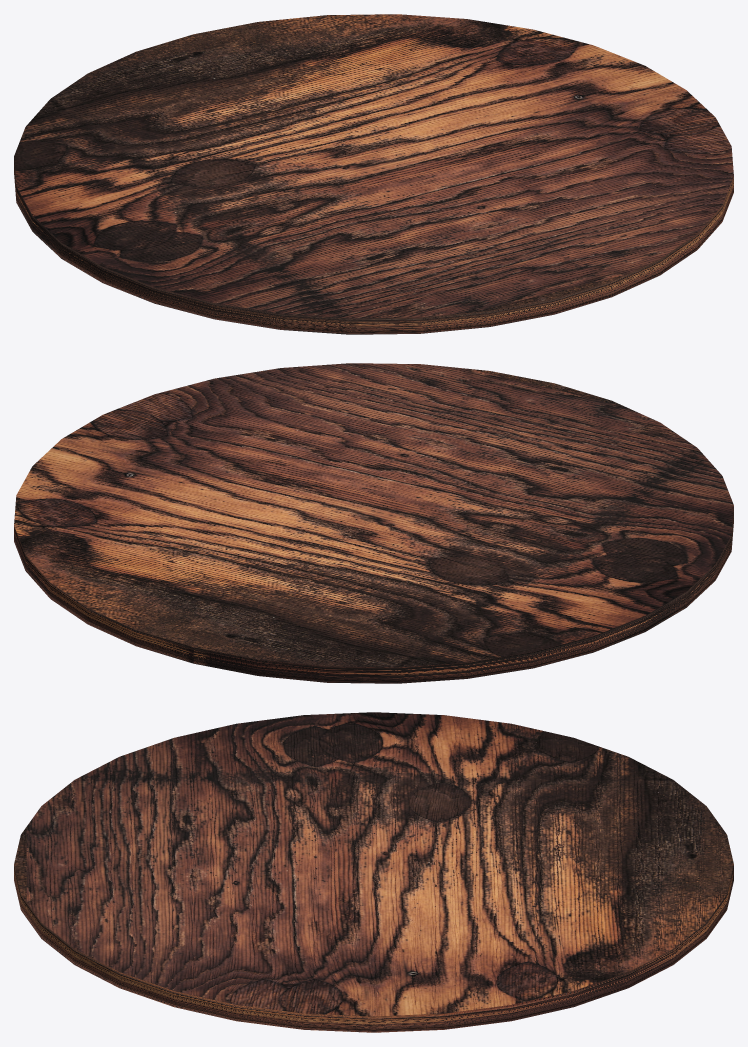
The model's file is tafel_top.fbx.
3 views of the same model, one above another, from view 1: azimuth 30°, elevation 25°; view 2: azimuth 150°, elevation 25°; view 3: azimuth 270°, elevation 25° (orthographic).
Parts seen in each view (by area): view 1: Cylinder; view 2: Cylinder; view 3: Cylinder.
Part boxes in pixels (bbox=[...]): Cylinder: bbox=[14, 14, 733, 334]; Cylinder: bbox=[14, 363, 733, 683]; Cylinder: bbox=[14, 712, 733, 1032].
Bounding box in the file's own units: 200 × 5 × 200.
